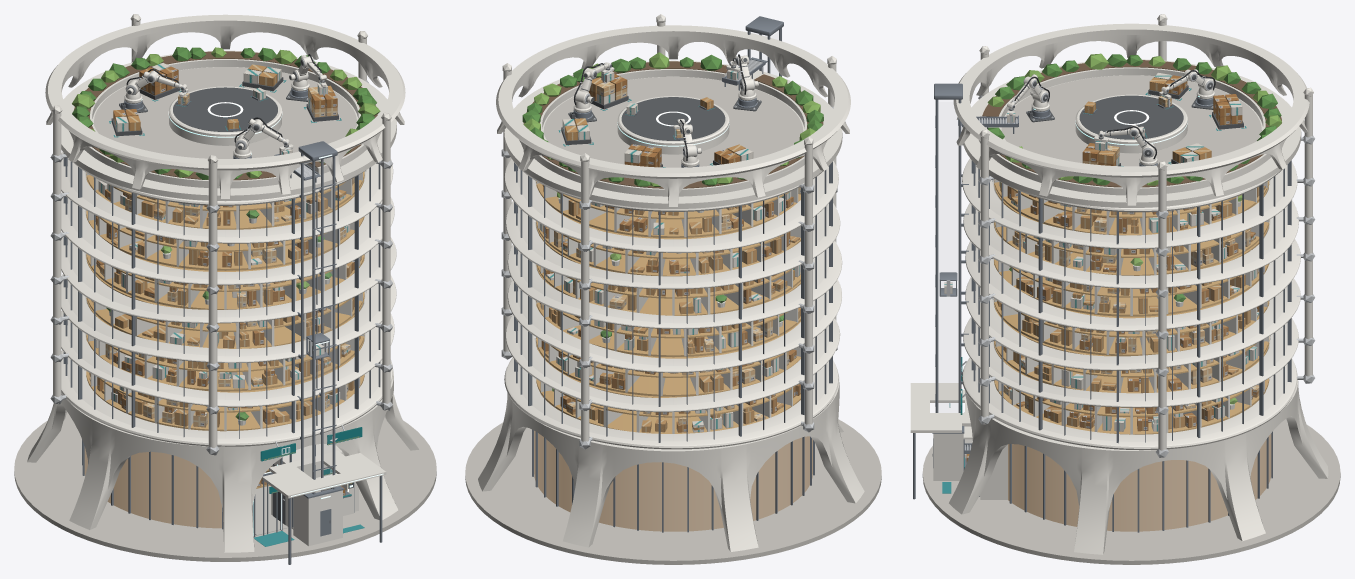
The model's file is q07b-pickup-tower.glb.
3 views of the same model, side by side, from view 1: azimuth 30°, elevation 25°; view 2: azimuth 150°, elevation 25°; view 3: azimuth 270°, elevation 25° (orthographic).
Visible parts, largest first — view 1: Q07B_Shell, Q07B_PickupPort, Q07B_ShelfRing_05, Q07B_ShelfRing_02, Q07B_ShelfRing_01, Q07B_ShelfRing_03, Q07B_ShelfRing_04, Q07B_ShelfRing_06; view 2: Q07B_Shell, Q07B_ShelfRing_03, Q07B_ShelfRing_04, Q07B_ShelfRing_02, Q07B_ShelfRing_06, Q07B_ShelfRing_05, Q07B_ShelfRing_01; view 3: Q07B_Shell, Q07B_ShelfRing_04, Q07B_ShelfRing_05, Q07B_ShelfRing_01, Q07B_ShelfRing_03, Q07B_ShelfRing_02, Q07B_PickupPort, Q07B_ShelfRing_06.
Part boxes in pixels (x1,y1,x2,y2): Q07B_Shell: (14,14,436,561); Q07B_PickupPort: (252,425,386,564); Q07B_ShelfRing_05: (86,176,364,270); Q07B_ShelfRing_02: (86,296,364,391); Q07B_ShelfRing_01: (86,337,364,431); Q07B_ShelfRing_03: (86,256,364,348); Q07B_ShelfRing_04: (86,216,364,309); Q07B_ShelfRing_06: (86,171,364,229); Q07B_Shell: (465,14,881,564); Q07B_ShelfRing_03: (536,265,800,357); Q07B_ShelfRing_04: (536,221,800,315); Q07B_ShelfRing_02: (536,301,800,396); Q07B_ShelfRing_06: (536,181,800,237); Q07B_ShelfRing_05: (536,181,800,276); Q07B_ShelfRing_01: (536,340,800,433); Q07B_Shell: (922,14,1340,564); Q07B_ShelfRing_04: (994,222,1269,316); Q07B_ShelfRing_05: (994,182,1269,275); Q07B_ShelfRing_01: (994,341,1269,434); Q07B_ShelfRing_03: (994,262,1269,356); Q07B_ShelfRing_02: (994,302,1269,393); Q07B_PickupPort: (910,357,1007,499); Q07B_ShelfRing_06: (994,179,1269,235).
Bounding box in the file's own units: 13.8 × 14.28 × 14.21.
Materials: 20 (2 with a texture image).
